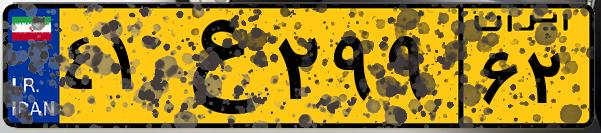1: (110, 28, 158, 98)
2: (270, 28, 330, 110), (525, 38, 570, 115)
4: (57, 26, 110, 100)
6: (475, 38, 525, 113)
9: (385, 28, 445, 110), (330, 28, 385, 110)
ع: (158, 12, 270, 120)
